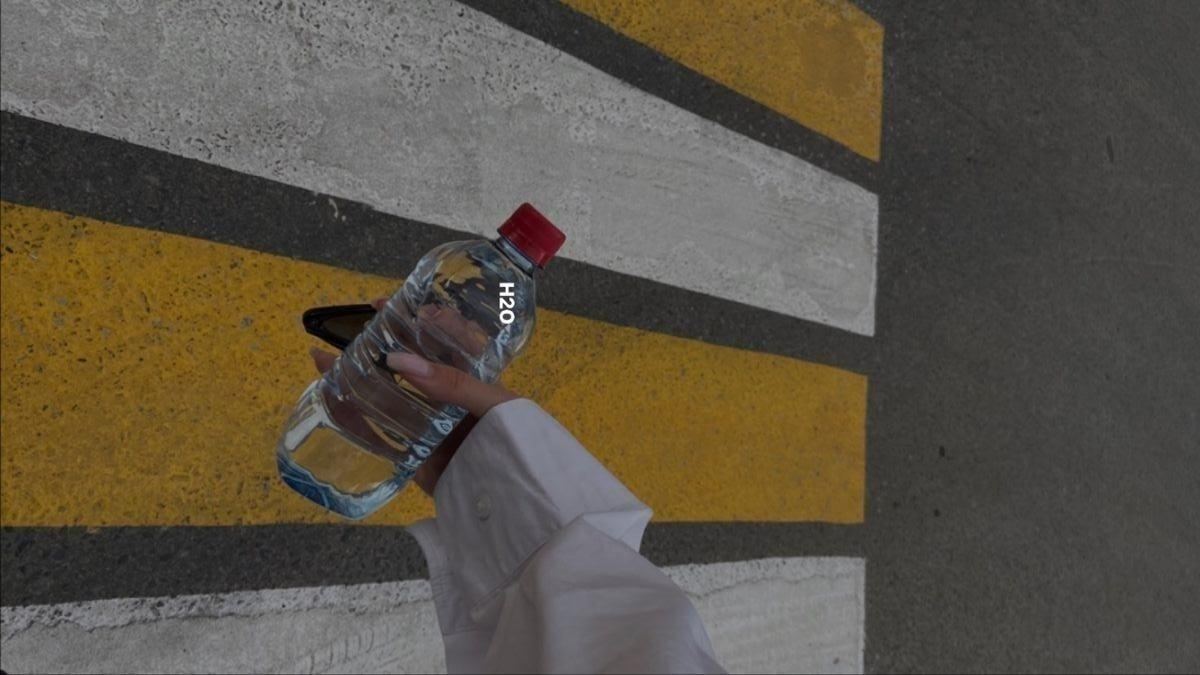bottle-plastic: (273, 200, 568, 523)
